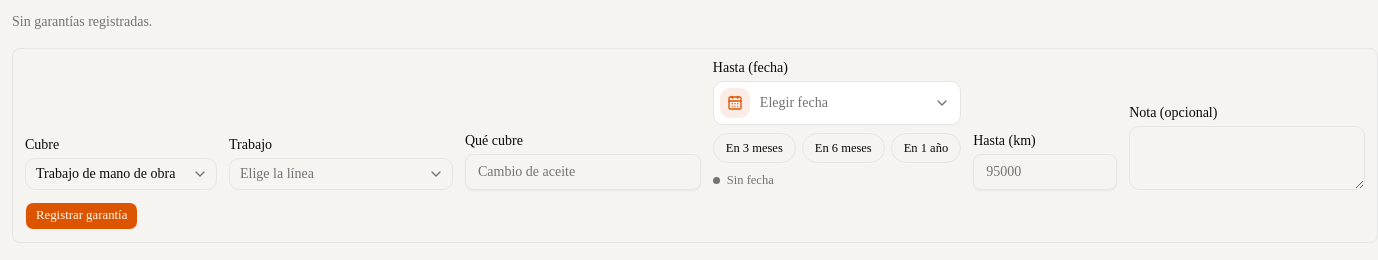
Test: GarantiasSection › al cambiar a repuesto ofrece las líneas de repuestos y su campo
Step 1. Click the dropdown named "Cubre" → [121, 174], box [25,158,217,190]
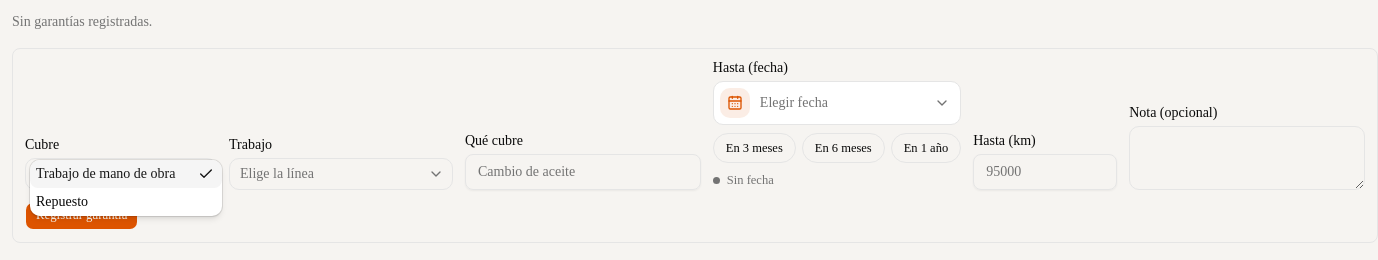
Step 2. Click the option "Repuesto" → [62, 201], box [36,194,88,209]
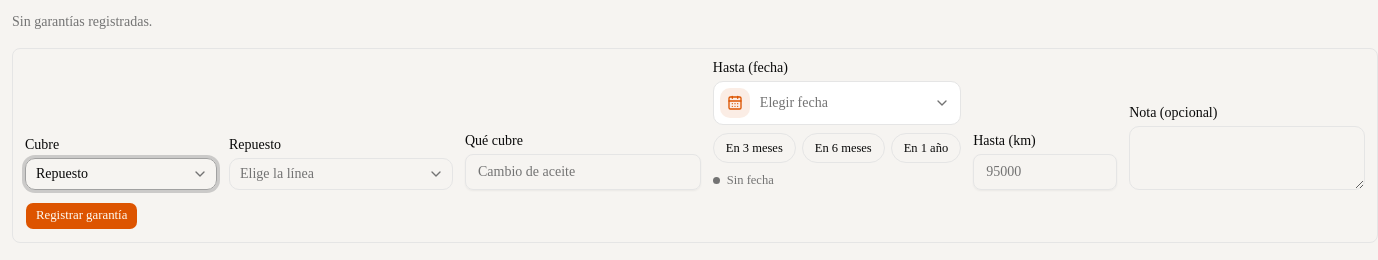
Step 3. Click the dropdown named "Repuesto" → [341, 174], box [229,158,453,190]
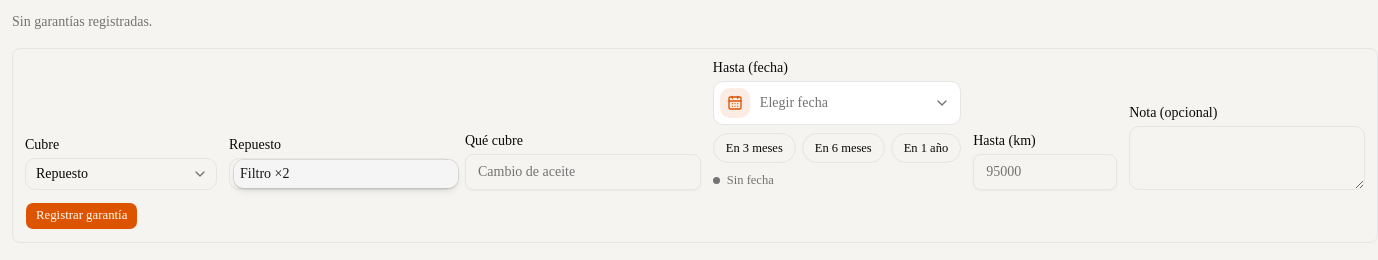
Expected: the option "Filtro ×2" is shown, [234,160,458,188]
